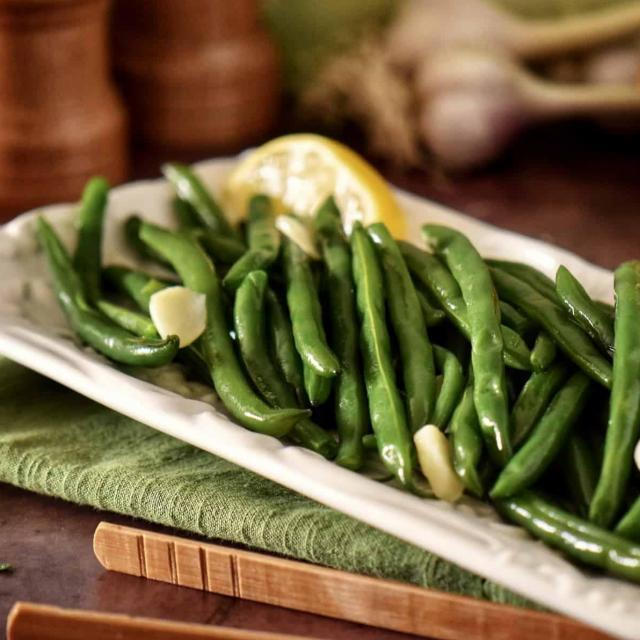Beans: (25, 156, 639, 602)
